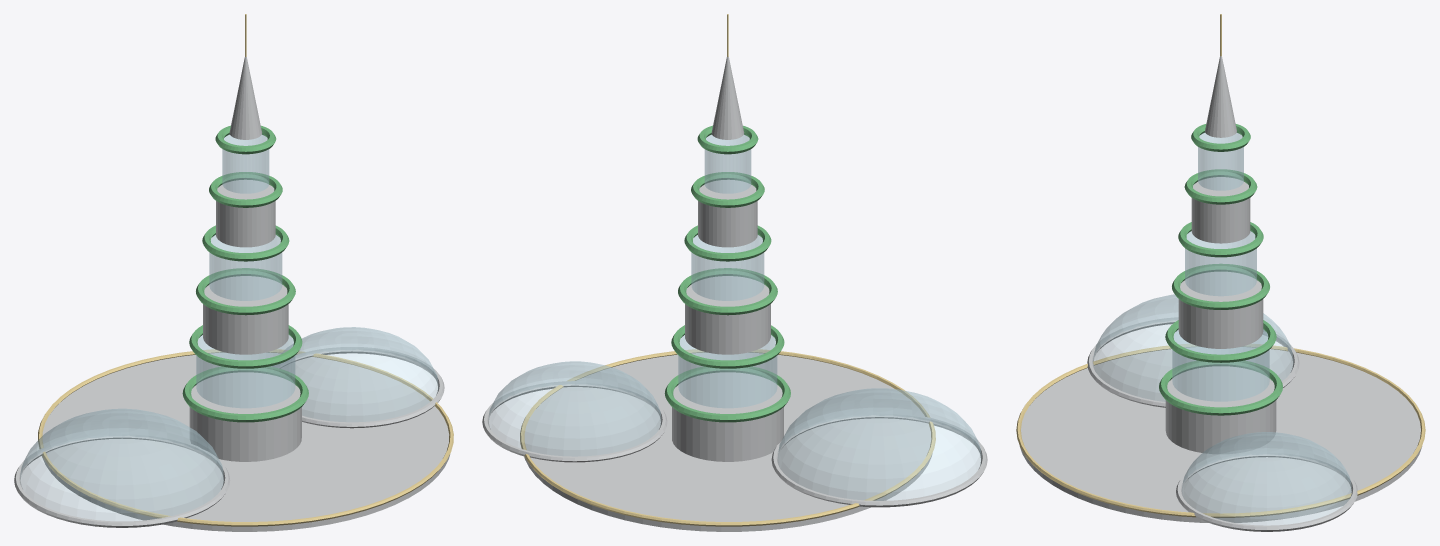
Rendered from reef-city-hub.glb.
3 renders of one model, left to right at view 1: azimuth 30°, elevation 25°; view 2: azimuth 150°, elevation 25°; view 3: azimuth 270°, elevation 25°, orthographic.
Visible parts, largest first — view 1: Cylinder.005, Cylinder.024, Torus.247, Torus.248; view 2: Cylinder.005, Cylinder.024, Torus.247, Torus.248; view 3: Cylinder.005, Cylinder.024, Torus.247, Torus.248.
Boxes of the visible parts, <box> form: Cylinder.005: <box>14,57,450,531</box>; Cylinder.024: <box>20,134,438,520</box>; Torus.247: <box>182,125,308,422</box>; Torus.248: <box>38,14,453,526</box>; Cylinder.005: <box>482,57,987,531</box>; Cylinder.024: <box>488,134,981,500</box>; Torus.247: <box>664,125,790,422</box>; Torus.248: <box>520,14,935,526</box>; Cylinder.005: <box>1019,56,1422,531</box>; Cylinder.024: <box>1093,132,1351,525</box>; Torus.247: <box>1159,124,1282,415</box>; Torus.248: <box>1016,14,1425,517</box>.
Bounding box in the file's own units: 109 × 102 × 89.
